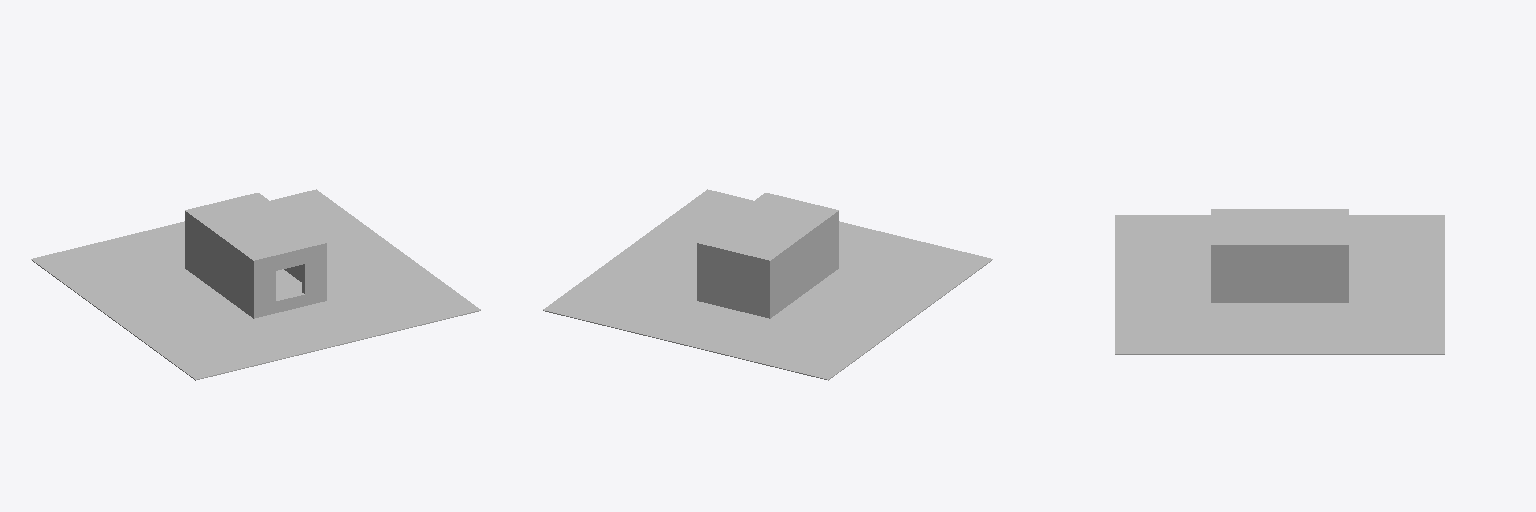
Rendered from room.obj.
3 views of the same model, side by side, from view 1: azimuth 30°, elevation 25°; view 2: azimuth 150°, elevation 25°; view 3: azimuth 270°, elevation 25° (orthographic).
Parts seen in each view (by area): view 1: Cube_Cube.001, Cube.001_Cube.002; view 2: Cube_Cube.001, Cube.001_Cube.002; view 3: Cube_Cube.001, Cube.001_Cube.002.
Part boxes in pixels (left/top/right/bottom): Cube_Cube.001: left=31, top=189, right=480, bottom=380; Cube.001_Cube.002: left=185, top=193, right=326, bottom=318; Cube_Cube.001: left=543, top=189, right=992, bottom=380; Cube.001_Cube.002: left=697, top=193, right=838, bottom=318; Cube_Cube.001: left=1115, top=215, right=1444, bottom=354; Cube.001_Cube.002: left=1211, top=209, right=1348, bottom=302.
Size of the model in its own units: 24.89 by 4.89 by 24.89.